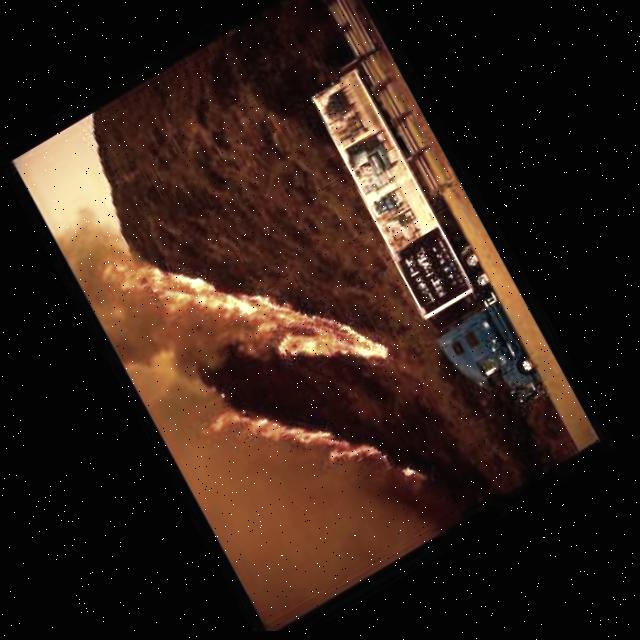Fire: (89, 156, 437, 539)
